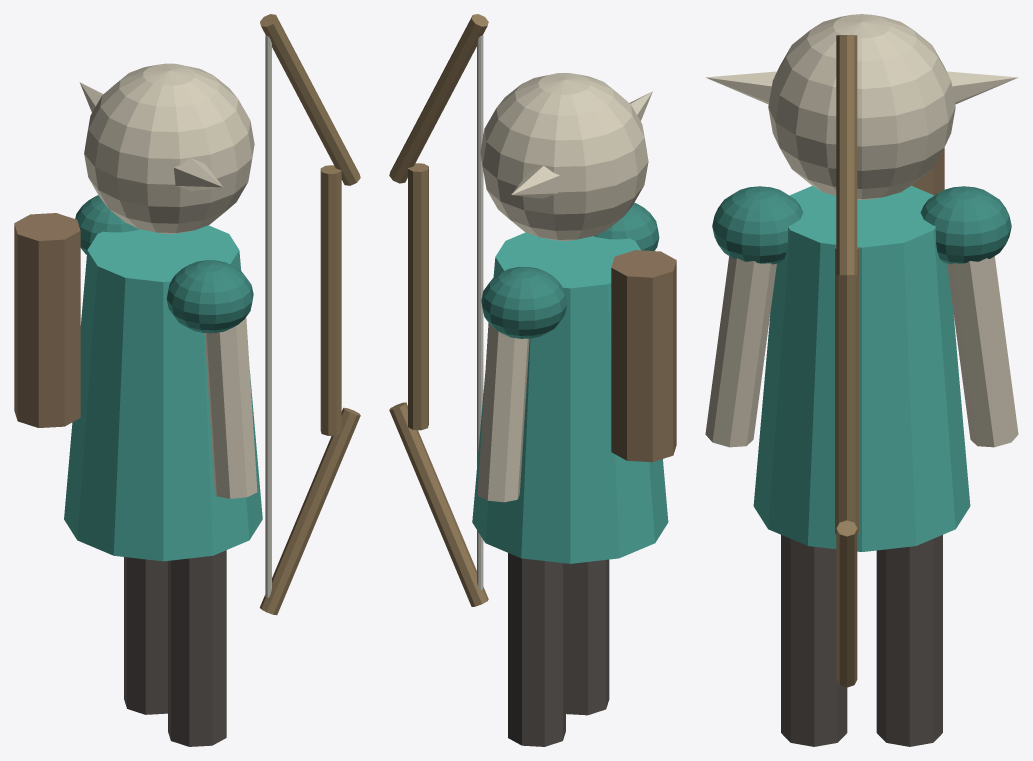
Rendered from hero_yllien_1.glb.
3 renders of one model, left to right at view 1: azimuth 30°, elevation 25°; view 2: azimuth 150°, elevation 25°; view 3: azimuth 270°, elevation 25°, orthographic. The views are drawn at different scales.
Visible parts, largest first — view 1: figurka; view 2: figurka; view 3: figurka.
Part boxes in pixels (box(x1,y1,x2,y2)): figurka: box(14, 14, 360, 746); figurka: box(389, 14, 676, 746); figurka: box(705, 14, 1018, 746).
Size of the model in its own units: 0.5277 by 1.1 by 0.4183.
